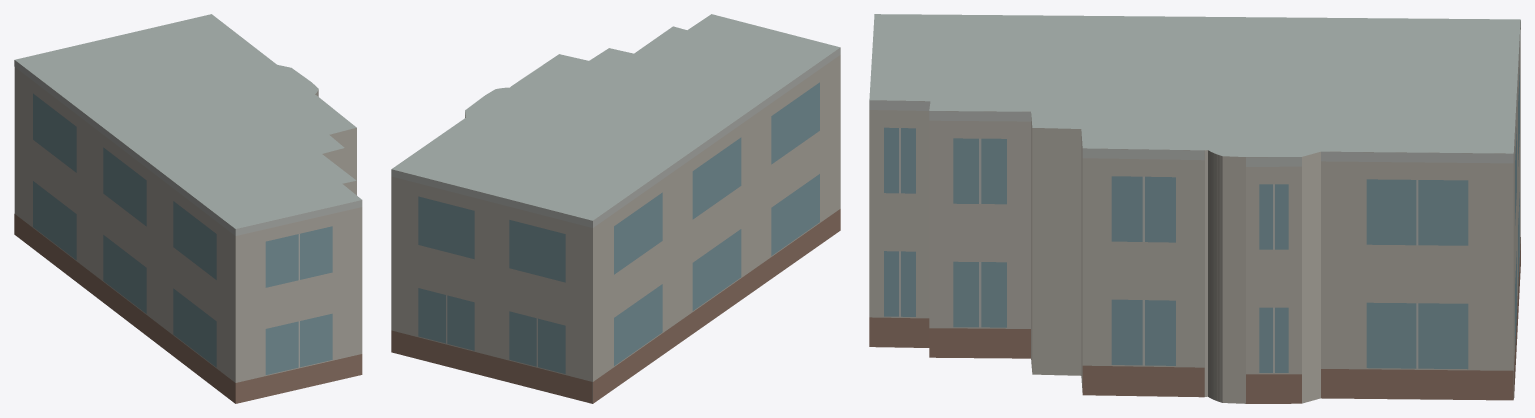
File: survey-upis-32715458.glb
3 renders of one model, left to right at view 1: azimuth 30°, elevation 25°; view 2: azimuth 150°, elevation 25°; view 3: azimuth 270°, elevation 25°, orthographic. The views are drawn at different scales.
Parts seen in each view (by area): view 1: survey-upis-32715458.tmp; view 2: survey-upis-32715458.tmp; view 3: survey-upis-32715458.tmp.
Part boxes in pixels (x1,y1,x2,y2): survey-upis-32715458.tmp: (14,14,362,403); survey-upis-32715458.tmp: (391,14,840,403); survey-upis-32715458.tmp: (869,14,1520,403).
Size of the model in its own units: 7.59 by 6.1 by 14.6.
